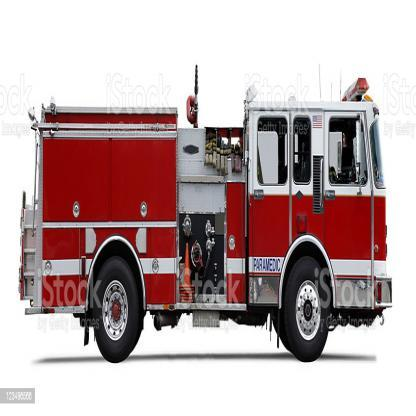fire-truck: (10, 49, 416, 371)
